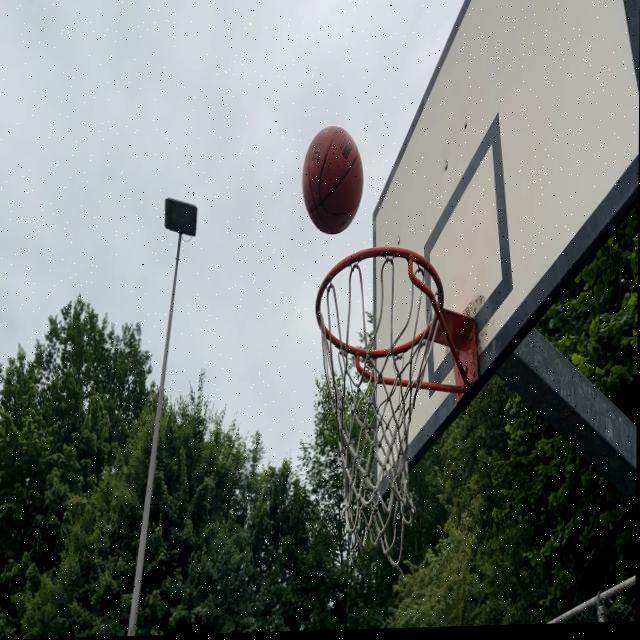Basketball: (301, 125, 364, 236)
